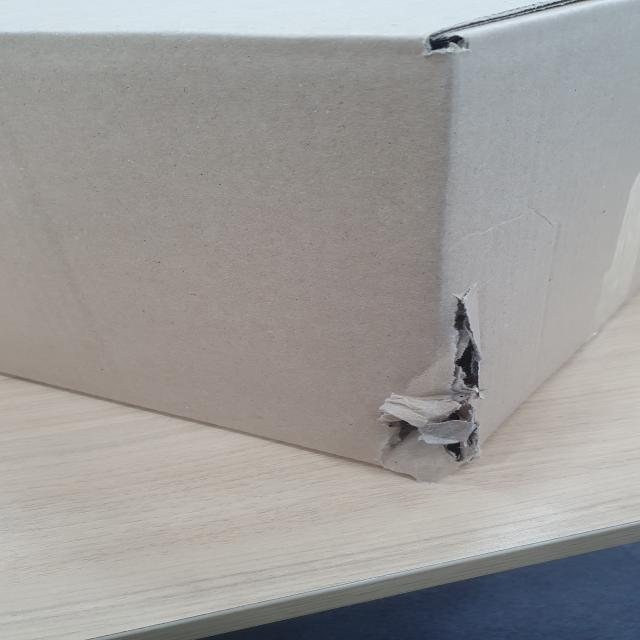hole: (371, 291, 488, 484)
